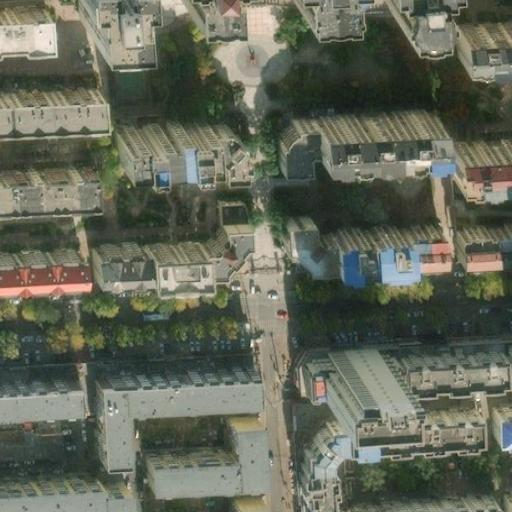building: (292, 393, 469, 477), (143, 414, 256, 484), (299, 476, 486, 512), (304, 101, 425, 145), (121, 369, 246, 401), (116, 107, 213, 145), (323, 228, 402, 274), (0, 82, 91, 119), (392, 342, 494, 373), (0, 159, 83, 196), (443, 128, 512, 165), (92, 371, 122, 454), (0, 373, 72, 407), (446, 15, 512, 51), (277, 211, 324, 261), (186, 211, 236, 256), (310, 349, 378, 380), (0, 427, 62, 461), (446, 218, 512, 249), (0, 248, 70, 275), (81, 234, 136, 266), (273, 107, 307, 156), (135, 240, 187, 271), (0, 4, 39, 39), (399, 222, 438, 255), (483, 389, 512, 426), (93, 478, 124, 512), (84, 0, 129, 15), (225, 496, 263, 512), (495, 480, 512, 509)
